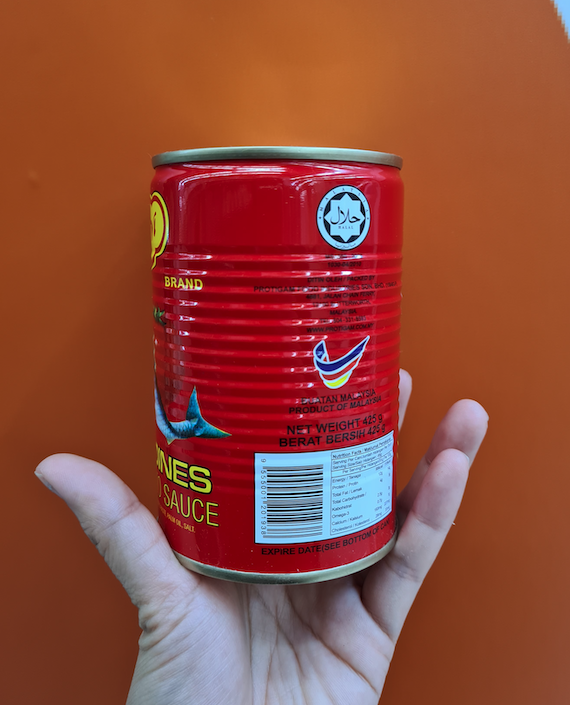Canned_Sardines_and_Mackerel: (154, 158, 401, 567)
